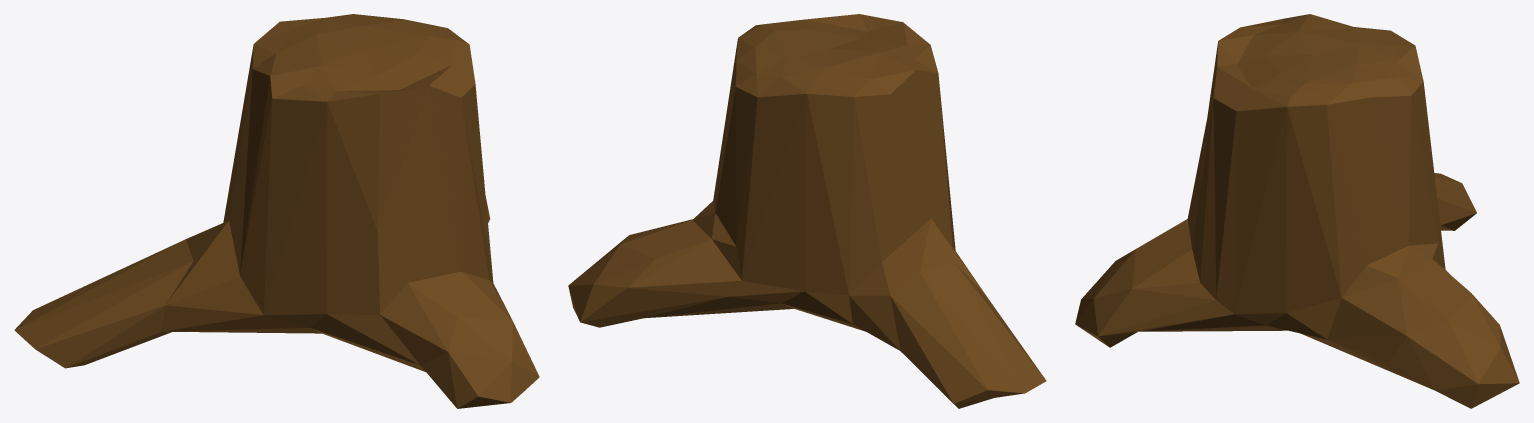
File: Tree Trunk.fbx
3 views of the same model, side by side, from view 1: azimuth 30°, elevation 25°; view 2: azimuth 150°, elevation 25°; view 3: azimuth 270°, elevation 25° (orthographic). The views are drawn at different scales.
Visible parts, largest first — view 1: Tree; view 2: Tree; view 3: Tree.
Boxes of the visible parts, x1,y1,x2,y2 form: Tree: (14,14,539,408); Tree: (568,14,1046,408); Tree: (1075,14,1519,408).
Bounding box in the file's own units: 164 × 94.1 × 136.
